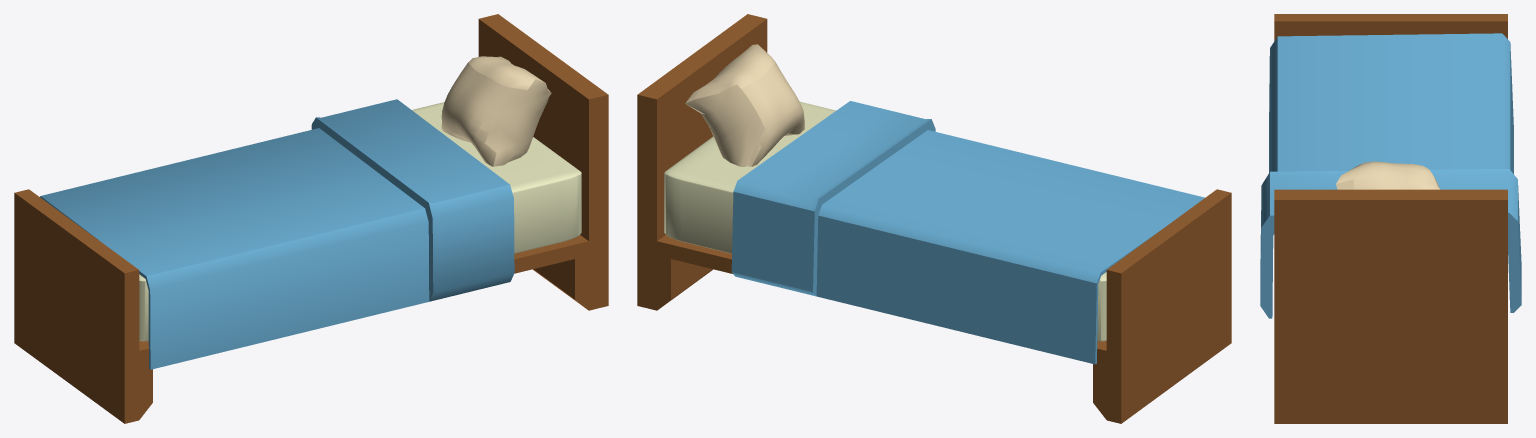
File: asset cama ajustado.glb
3 views of the same model, side by side, from view 1: azimuth 30°, elevation 25°; view 2: azimuth 150°, elevation 25°; view 3: azimuth 270°, elevation 25° (orthographic). The views are drawn at different scales.
Parts seen in each view (by area): view 1: cama, cama.001, cama.003, cama.002; view 2: cama, cama.001, cama.003, cama.002; view 3: cama.001, cama, cama.003.
Boxes of the visible parts, bbox=[...] form: cama: bbox=[40, 99, 514, 369]; cama.001: bbox=[14, 14, 608, 423]; cama.003: bbox=[441, 56, 551, 166]; cama.002: bbox=[139, 102, 581, 341]; cama: bbox=[731, 101, 1204, 364]; cama.001: bbox=[637, 14, 1231, 423]; cama.003: bbox=[685, 44, 804, 166]; cama.002: bbox=[664, 101, 1106, 341]; cama.001: bbox=[1274, 14, 1507, 423]; cama: bbox=[1260, 33, 1521, 318]; cama.003: bbox=[1336, 161, 1440, 189].
Bounding box in the file's own units: 2.04 × 0.8799 × 0.9014.
